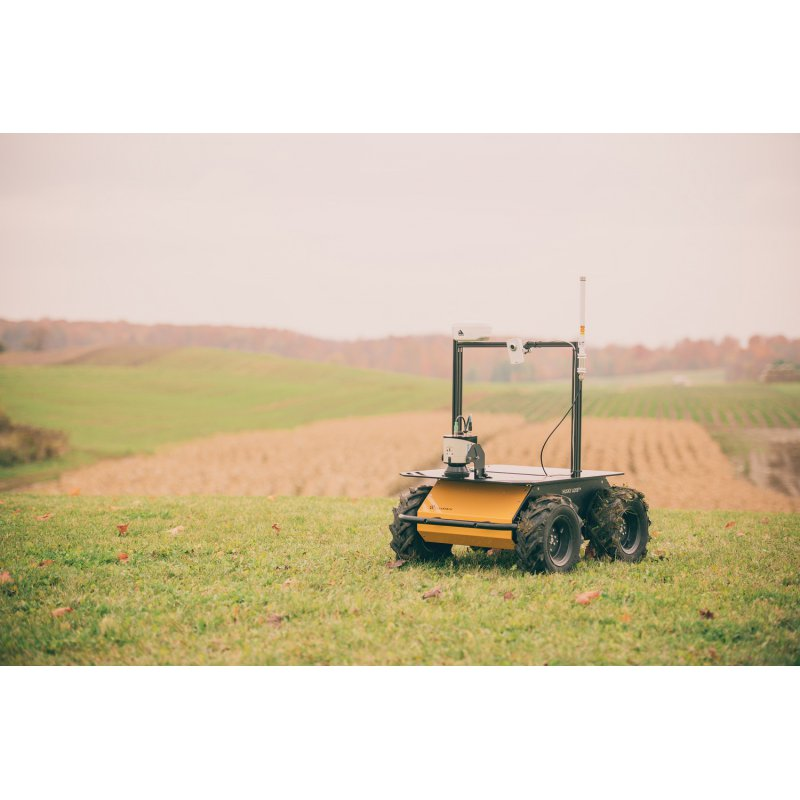husky: (390, 465, 652, 574)
